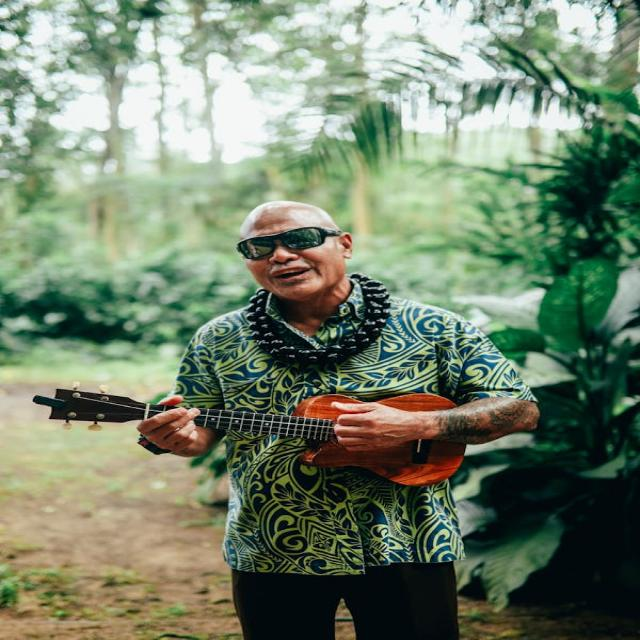Real human 2: (128, 199, 552, 640)
